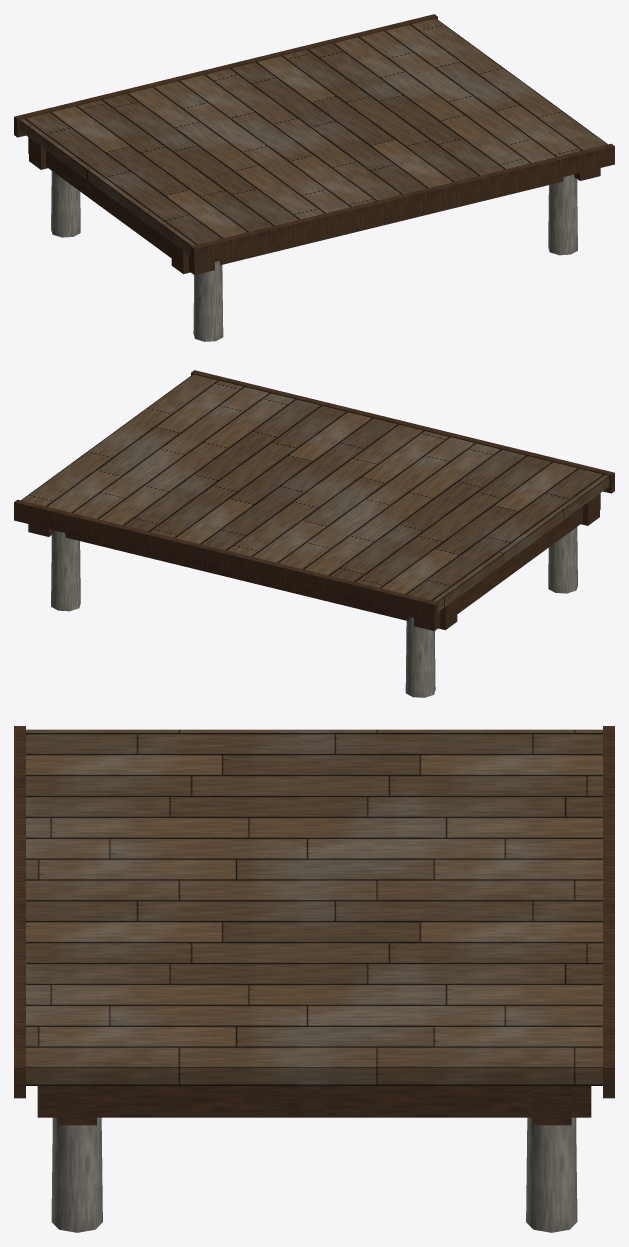
File: SM_Art_Pier_405x300x100_P100.gltf
3 views of the same model, one above another, from view 1: azimuth 30°, elevation 25°; view 2: azimuth 150°, elevation 25°; view 3: azimuth 270°, elevation 25° (orthographic). The views are drawn at different scales.
Visible parts, largest first — view 1: SM_Art_Pier_405x300x100_P100; view 2: SM_Art_Pier_405x300x100_P100; view 3: SM_Art_Pier_405x300x100_P100.
Boxes of the visible parts, <box> form: SM_Art_Pier_405x300x100_P100: <box>14,14,614,341</box>; SM_Art_Pier_405x300x100_P100: <box>14,370,614,697</box>; SM_Art_Pier_405x300x100_P100: <box>14,726,614,1232</box>.
Size of the model in its own units: 4.09 by 1.01 by 3.04.
Materials: 3 (3 with a texture image).
